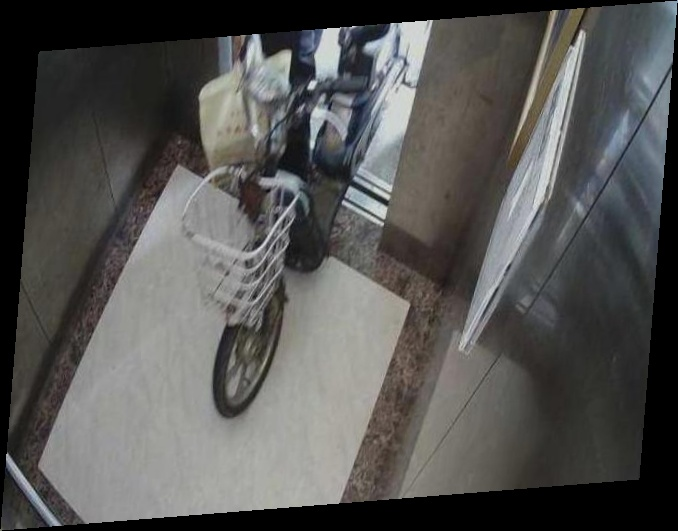electromobile: (168, 29, 420, 420)
